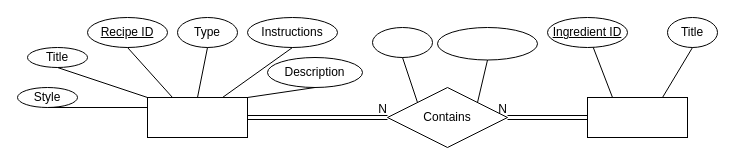
Image size: 735x165. Some labels were removed from this diagram. The shapes that lost their labels are listed below. From the top down, each one's centre as x and y in pixels, then its label:
At [402,42]: "Amount".
At [487,43]: "Unit of Measure".
At [197,117]: "Recipes".
At [637,117]: "Ingredients".
